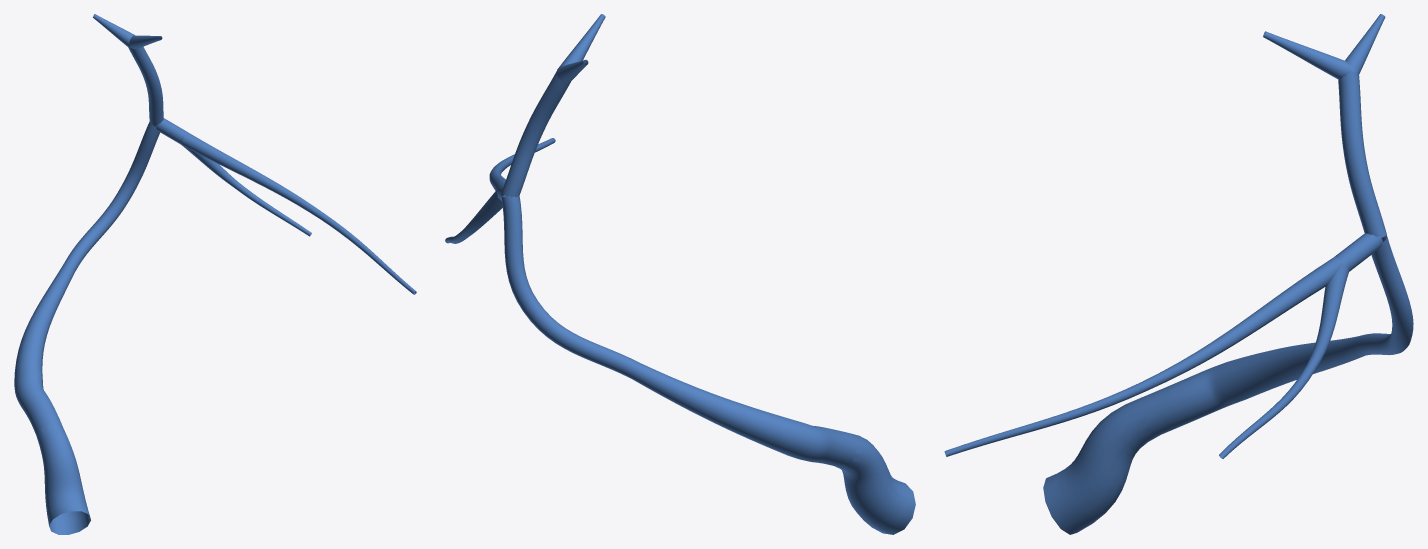
The picture shows the model from 3 angles, left to right: view 1: azimuth 30°, elevation 25°; view 2: azimuth 150°, elevation 25°; view 3: azimuth 270°, elevation 25°; orthographic projection. The views are drawn at different scales.
Visible parts, largest first — view 1: 左侧臀上静脉; view 2: 左侧臀上静脉; view 3: 左侧臀上静脉.
Part boxes in pixels (left/top/right/bottom): 左侧臀上静脉: left=14, top=14, right=416, bottom=534; 左侧臀上静脉: left=445, top=14, right=915, bottom=534; 左侧臀上静脉: left=944, top=14, right=1413, bottom=534.
Size of the model in its own units: 0.0771 by 0.0938 by 0.0651.
